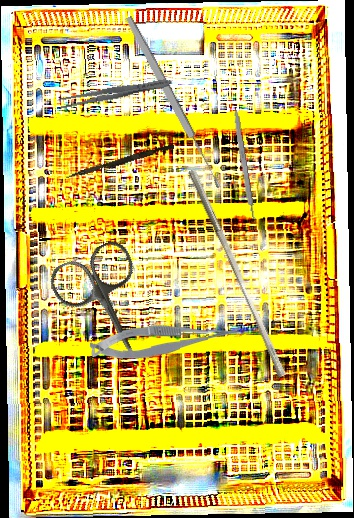Dressing Forceps: (56, 75, 174, 111)
Iris Scissors: (44, 236, 170, 373)
Micro Scissor: (89, 321, 242, 362)
Pusher: (179, 168, 294, 379), (65, 140, 175, 184)
Scalpel Handle: (231, 107, 256, 220)
Surgical Spoon: (123, 14, 224, 191)
